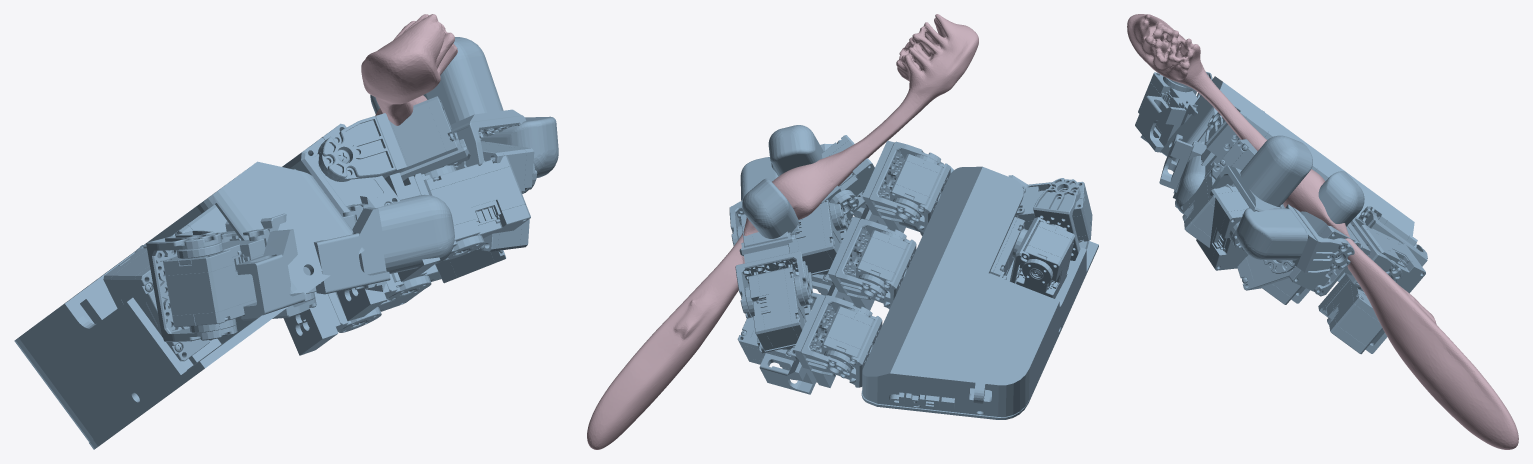
3 renders of one model, left to right at view 1: azimuth 30°, elevation 25°; view 2: azimuth 150°, elevation 25°; view 3: azimuth 270°, elevation 25°, orthographic. The views are drawn at different scales.
Visible parts, largest first — view 1: world, obj_mesh_grasp_0.obj; view 2: world, obj_mesh_grasp_0.obj; view 3: world, obj_mesh_grasp_0.obj.
Boxes of the visible parts, x1,y1,x2,y2 form: world: [14, 37, 558, 449]; obj_mesh_grasp_0.obj: [361, 14, 457, 125]; world: [729, 125, 1098, 419]; obj_mesh_grasp_0.obj: [587, 14, 978, 449]; world: [1135, 72, 1427, 354]; obj_mesh_grasp_0.obj: [1127, 14, 1518, 449].
Bounding box in the file's own units: 0.2089 × 0.1929 × 0.1938.
